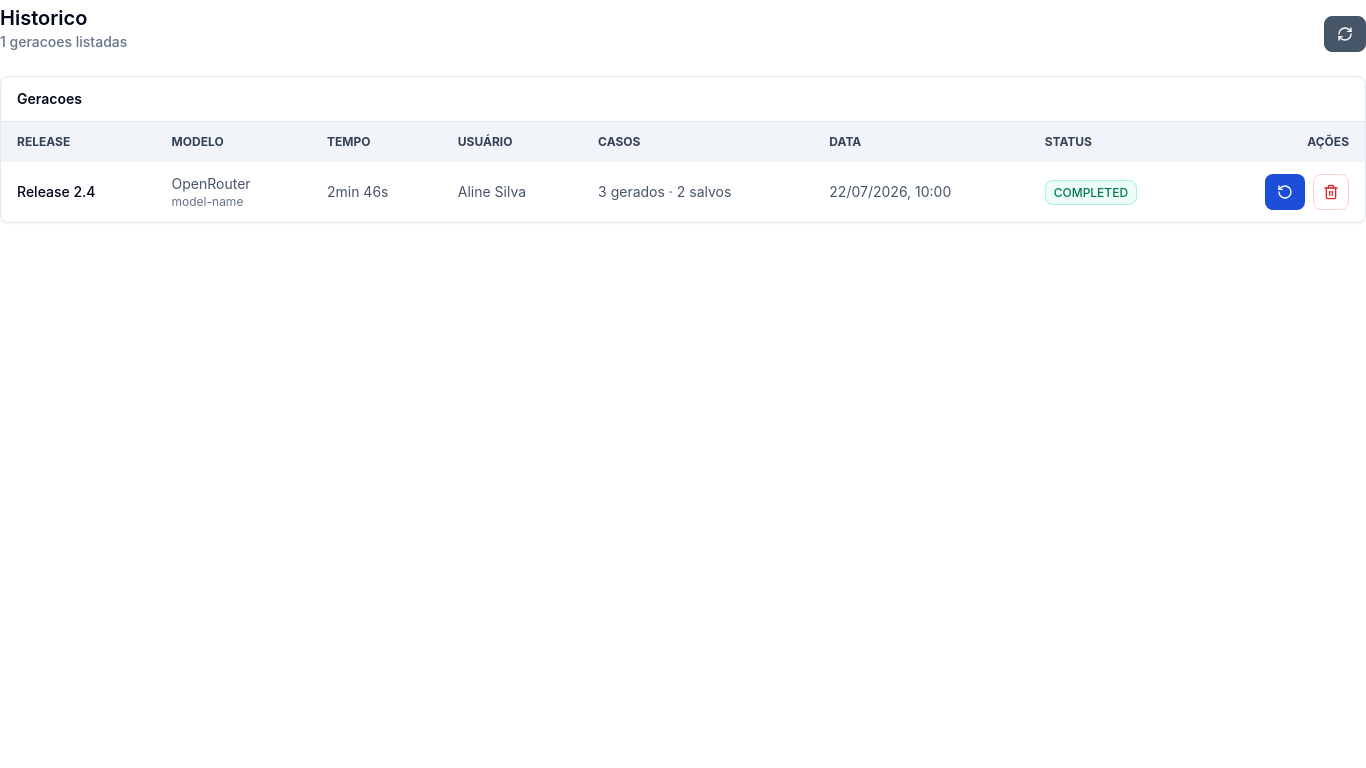
Test: AiHistoryPage › removes the row and reports success after deletion
Expected: the button "Release 2.4" is shown, [17,182,96,202]
What coordinates should you click on to do the following:
click the button named "Excluir geração Release 2.4"
I would click on:
 (1331, 192)
Its box is [1313,174,1349,210].
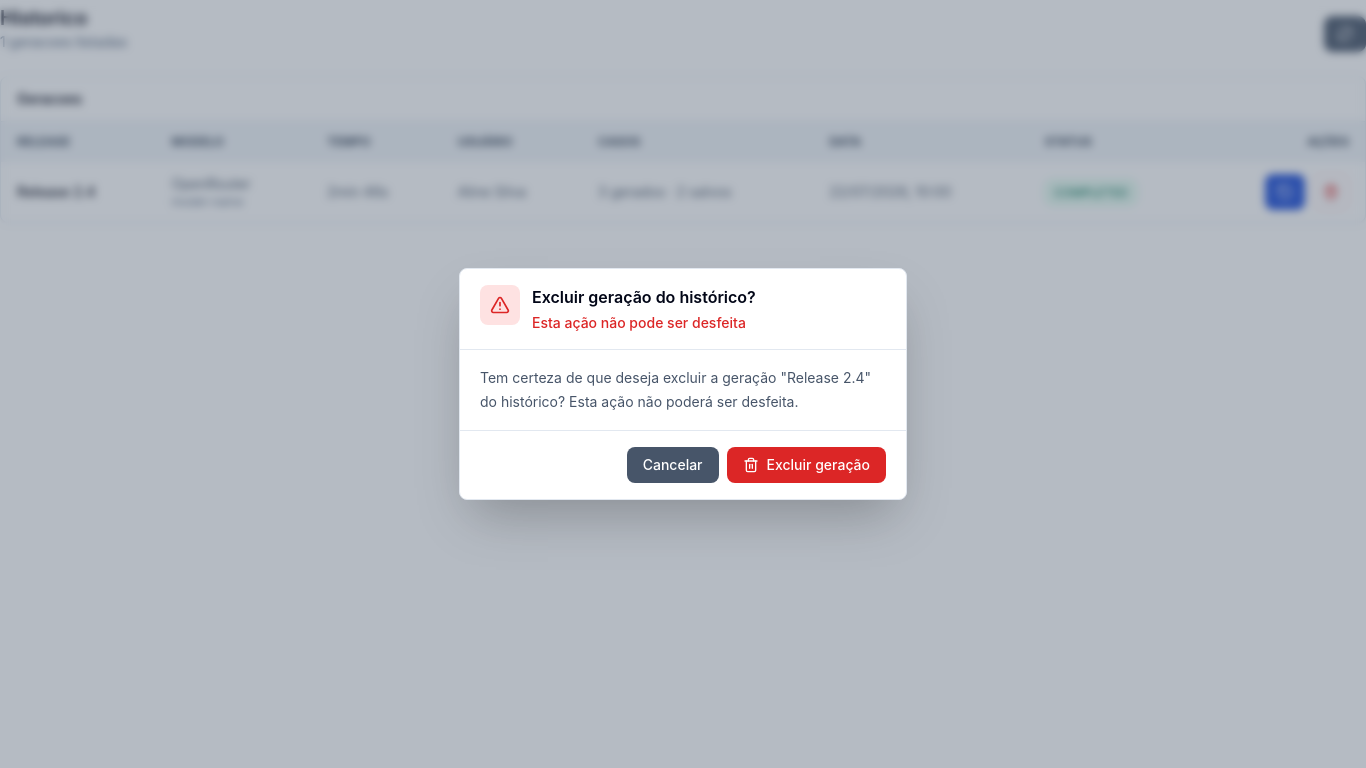
What coordinates should you click on to do the following:
click the button "Excluir geração"
I would click on:
 (806, 465)
Its box is [726,447,886,483].
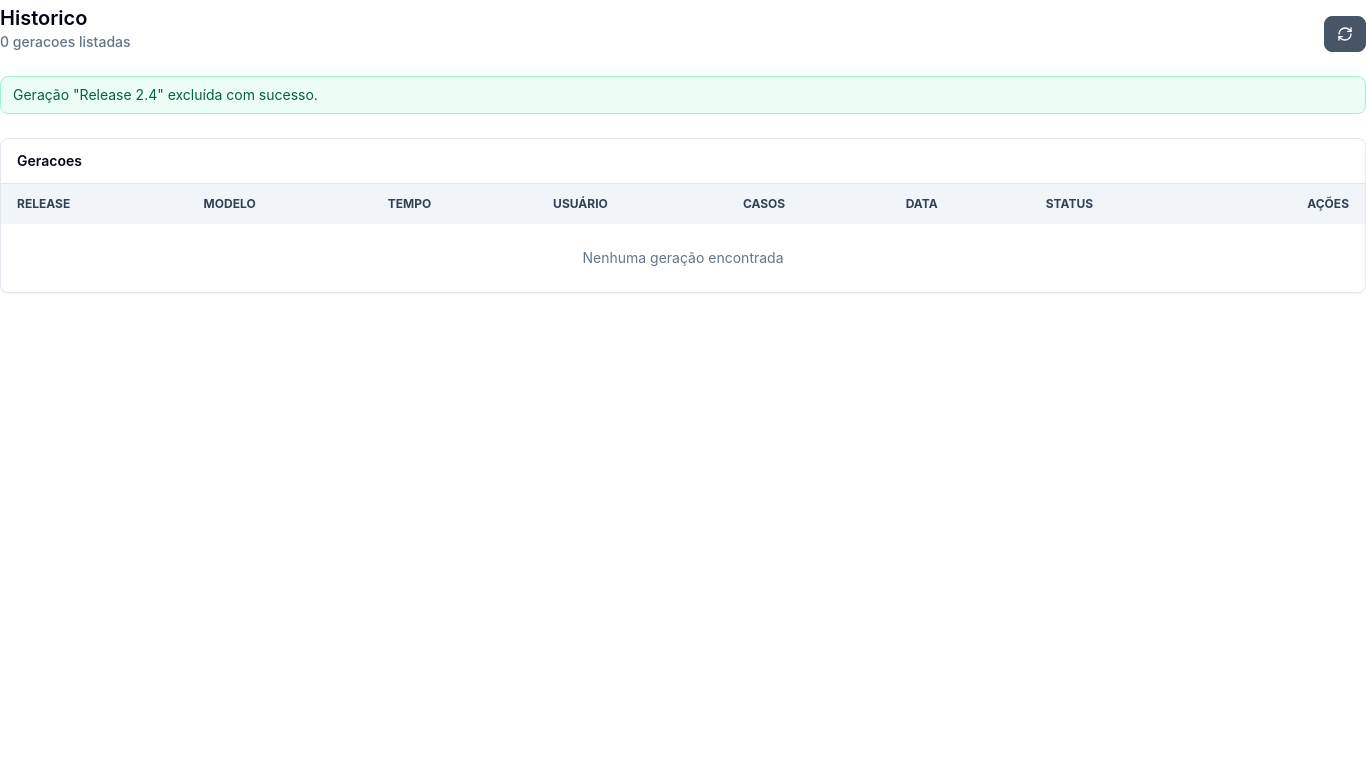
Expected: the message shows "excluída com sucesso", [13,86,318,103]
